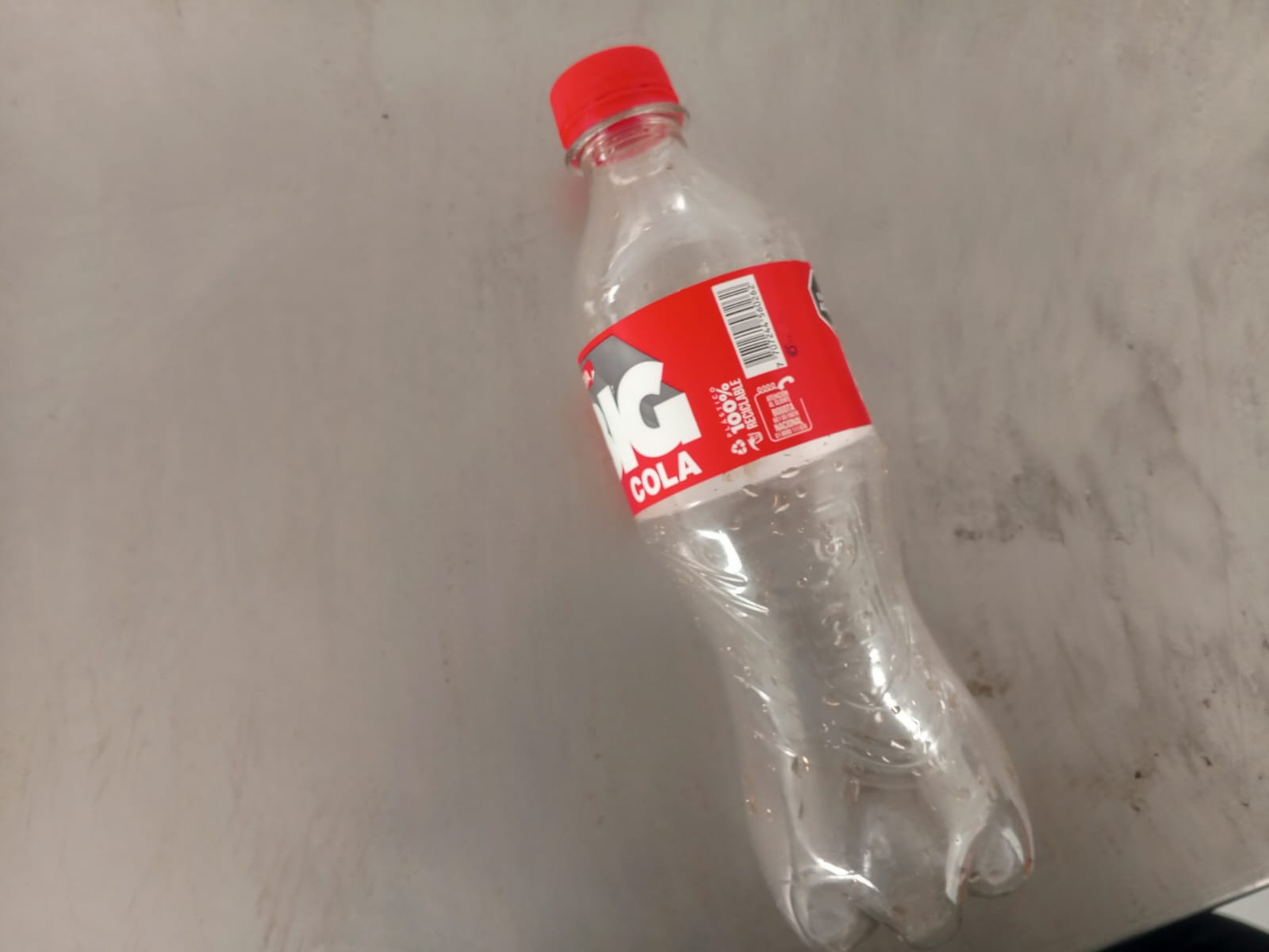Plastico: (550, 46, 1035, 952)
